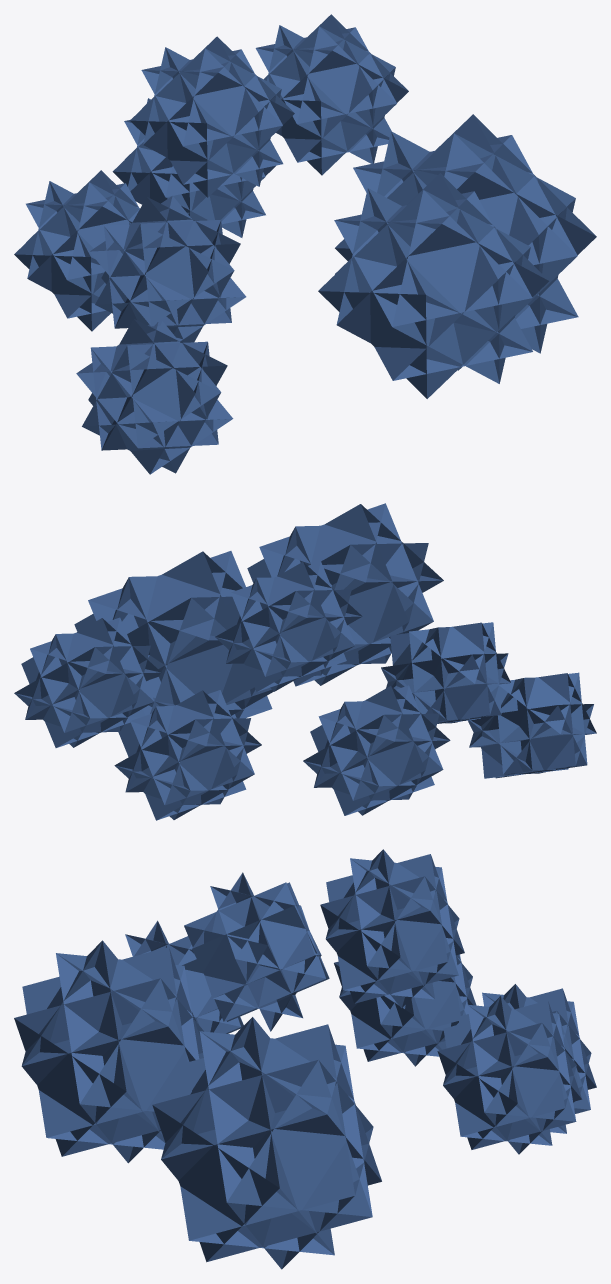
Rendered from tree-winter-leaves-032.glb.
The picture shows the model from 3 angles, top to bottom: view 1: azimuth 30°, elevation 25°; view 2: azimuth 150°, elevation 25°; view 3: azimuth 270°, elevation 25°; orthographic projection. The views are drawn at different scales.
Visible parts, largest first — view 1: Plane.062_168; view 2: Plane.062_168; view 3: Plane.062_168.
Boxes of the visible parts, box(x1,y1,x2,y2) form: Plane.062_168: box(14, 14, 596, 474); Plane.062_168: box(14, 503, 596, 820); Plane.062_168: box(14, 849, 596, 1269).
Bounding box in the file's own units: 2.01 × 1.14 × 1.92.
